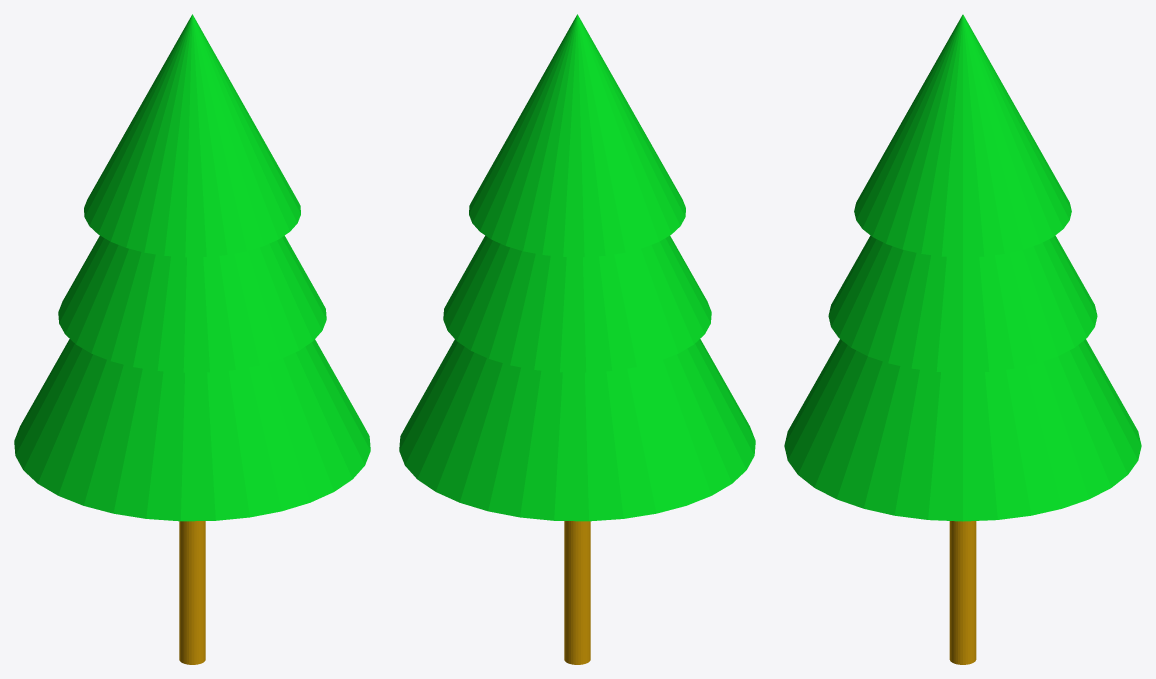
File: pohonnatal.fbx
3 views of the same model, side by side, from view 1: azimuth 30°, elevation 25°; view 2: azimuth 150°, elevation 25°; view 3: azimuth 270°, elevation 25° (orthographic).
Visible parts, largest first — view 1: Cone.001, Cylinder; view 2: Cone.001, Cylinder; view 3: Cone.001, Cylinder.
Part boxes in pixels (x1,y1,x2,y2): Cone.001: (14,14,370,521); Cylinder: (179,521,205,664); Cone.001: (399,14,755,521); Cylinder: (564,521,590,664); Cone.001: (784,14,1141,521); Cylinder: (949,521,976,664).
Bounding box in the file's own units: 122 × 244 × 122.
